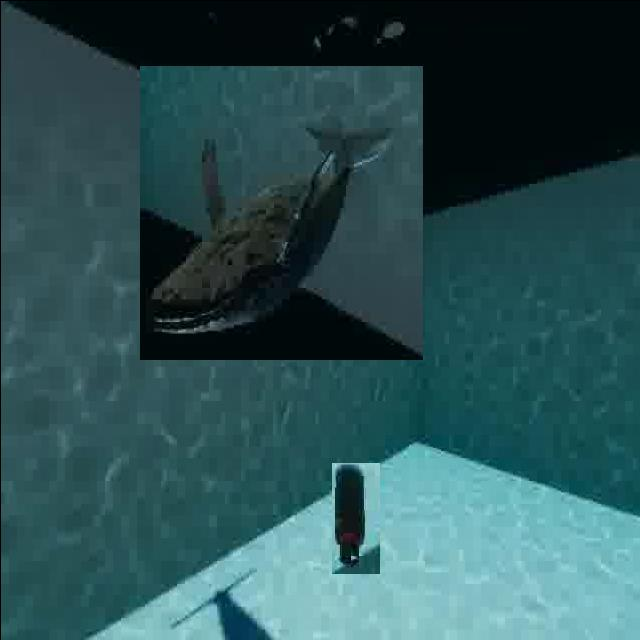Cylinder: (331, 462, 379, 573)
Whale: (139, 65, 422, 359)
